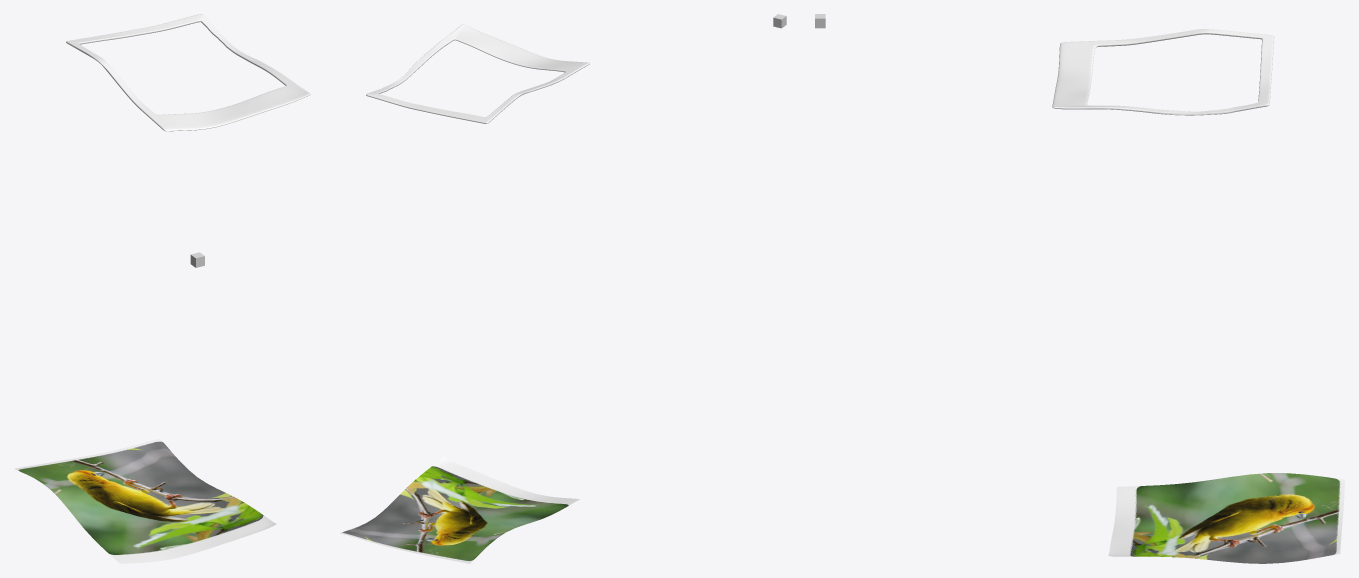
Rendered from scenec.glb.
3 views of the same model, side by side, from view 1: azimuth 30°, elevation 25°; view 2: azimuth 150°, elevation 25°; view 3: azimuth 270°, elevation 25° (orthographic). The views are drawn at different scales.
Parts seen in each view (by area): view 1: node1, node2; view 2: node1, node2; view 3: node1, node2.
Part boxes in pixels (x1=…): node1: x1=14, y1=439, x2=276, y2=563; node2: x1=66, y1=14, x2=310, y2=131; node1: x1=340, y1=457, x2=579, y2=563; node2: x1=366, y1=24, x2=589, y2=123; node1: x1=1108, y1=473, x2=1344, y2=563; node2: x1=1052, y1=29, x2=1274, y2=115.
Size of the model in its own units: 50.76 by 98.04 by 98.95.
3 materials, 1 textured.
